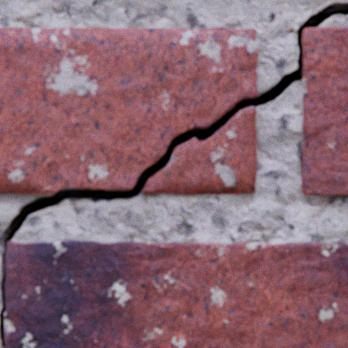brick: (5, 240, 347, 347), (301, 27, 347, 195)
broken_brick: (0, 28, 257, 193), (142, 107, 256, 194)
crack: (0, 1, 347, 347)
